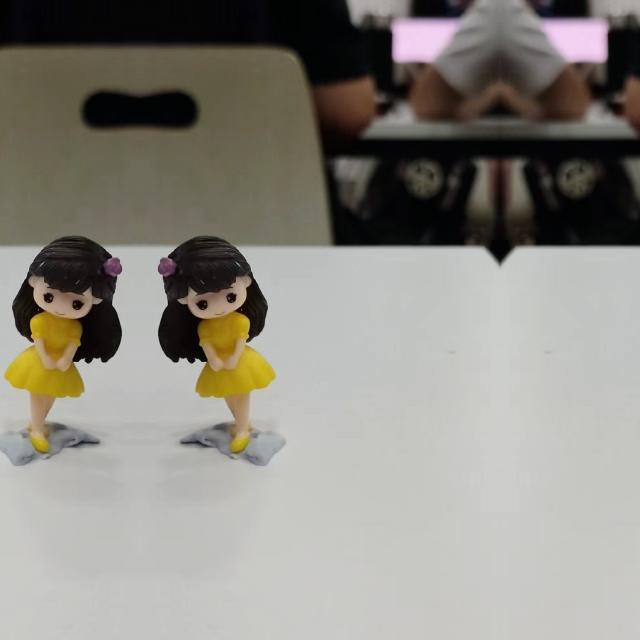woman head: (158, 231, 255, 319), (24, 231, 121, 319)
